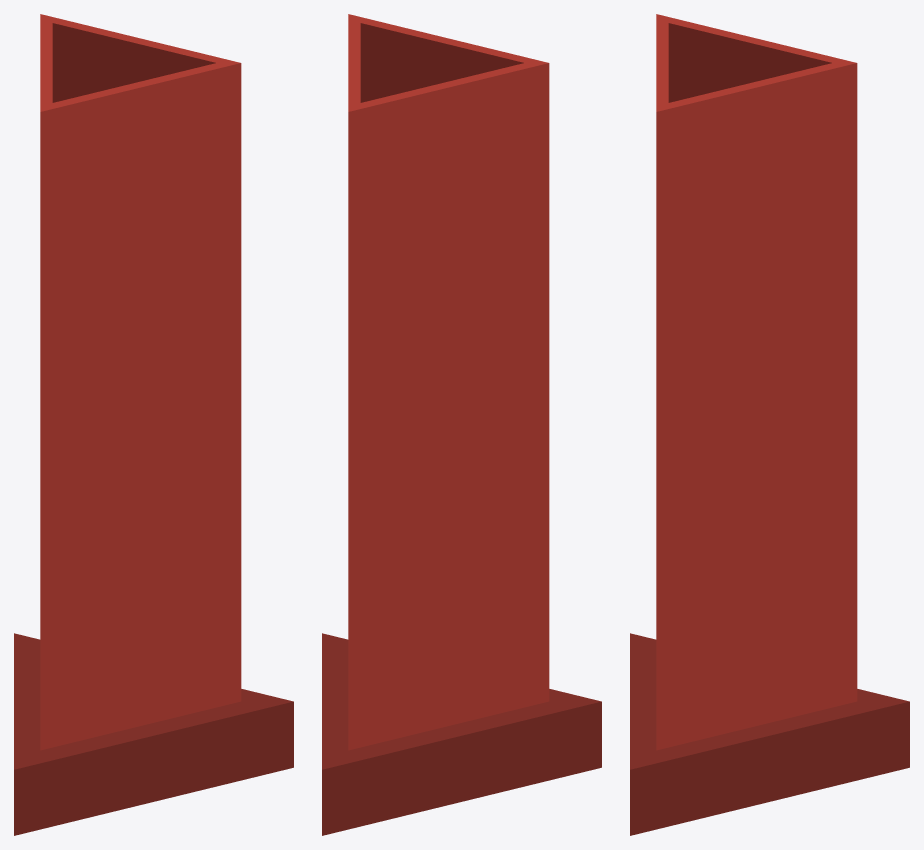
The model's file is placa1.fbx.
3 renders of one model, left to right at view 1: azimuth 30°, elevation 25°; view 2: azimuth 150°, elevation 25°; view 3: azimuth 270°, elevation 25°, orthographic.
Parts seen in each view (by area): view 1: Cylinder.001; view 2: Cylinder.001; view 3: Cylinder.001.
Part boxes in pixels (left/top/right/bottom): Cylinder.001: left=14, top=14, right=293, bottom=835; Cylinder.001: left=322, top=14, right=601, bottom=835; Cylinder.001: left=630, top=14, right=909, bottom=835.
Bounding box in the file's own units: 219 × 527 × 190.
